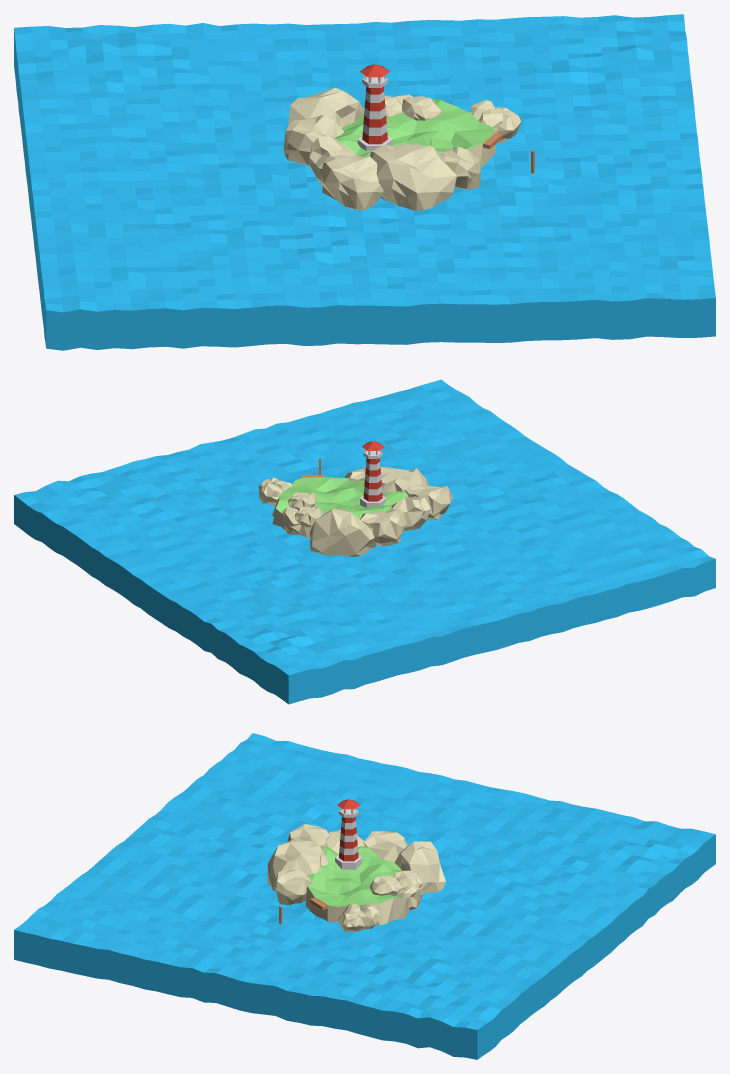
The model's file is beacon_FOR_scatchfab.glb.
The picture shows the model from 3 angles, top to bottom: view 1: azimuth 30°, elevation 25°; view 2: azimuth 150°, elevation 25°; view 3: azimuth 270°, elevation 25°; orthographic projection. The views are drawn at different scales.
Visible parts, largest first — view 1: Grid, Grid.001, Cube, Cube.001, Circle.001, Cube.013, Cube.012, Cube.011, Cube.008, Cube.005, Cube.003; view 2: Grid, Grid.001, Cube.013, Circle.001, Cube.012, Cube.001, Cube, Cube.008; view 3: Grid, Grid.001, Cube, Cube.013, Circle.001, Cube.011, Cube.012, Cube.001, Cube.005.
Part boxes in pixels (box(x1,y1,x2,y2)): Grid: box(14, 14, 715, 350); Grid.001: box(334, 99, 496, 167); Cube: box(370, 144, 456, 210); Cube.001: box(321, 155, 383, 210); Circle.001: box(357, 64, 392, 150); Cube.013: box(288, 87, 364, 127); Cube.012: box(283, 115, 343, 165); Cube.011: box(440, 146, 480, 189); Cube.008: box(309, 136, 358, 185); Cube.005: box(402, 96, 441, 120); Cube.003: box(493, 107, 521, 140); Grid: box(14, 379, 715, 704); Grid.001: box(272, 477, 408, 537); Cube.013: box(310, 509, 375, 556); Circle.001: box(360, 441, 386, 507); Cube.012: box(360, 508, 406, 546); Cube.001: box(405, 484, 452, 520); Cube: box(380, 467, 428, 493); Cube.008: box(391, 496, 430, 531); Grid: box(14, 733, 715, 1059); Grid.001: box(305, 846, 410, 925); Cube: box(267, 840, 328, 890); Cube.013: box(394, 841, 445, 893); Circle.001: box(335, 799, 362, 869); Cube.011: box(273, 869, 312, 905); Cube.012: box(364, 831, 407, 862); Cube.001: box(287, 824, 329, 846); Cube.005: box(370, 875, 401, 895).
Size of the model in its own units: 51.5 by 9.29 by 51.5.
